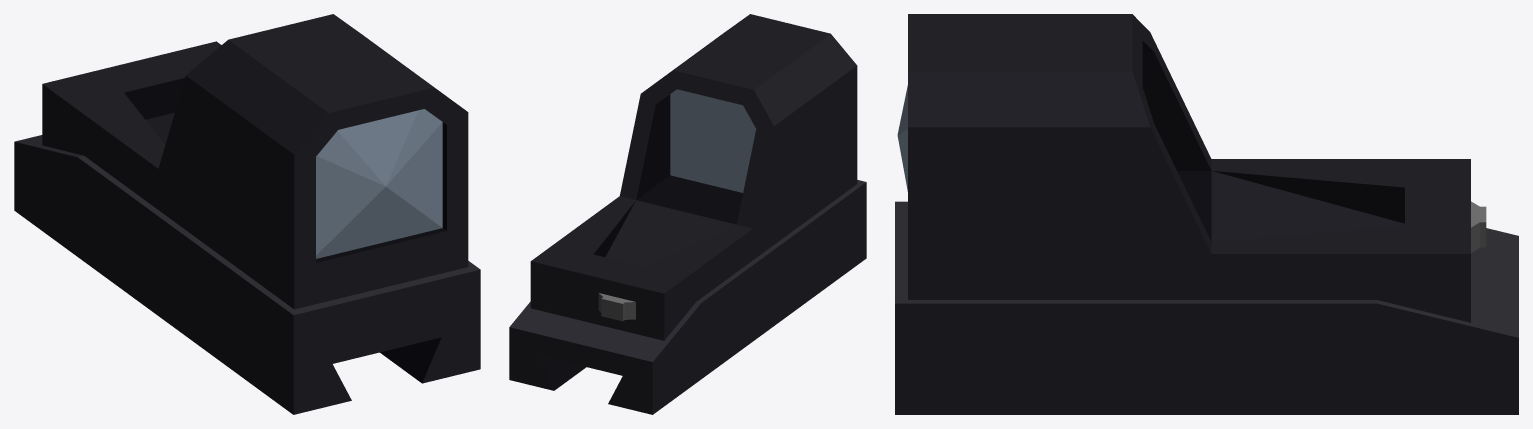
The model's file is MW1_Optic_Rear_Rail_01.fbx.
The picture shows the model from 3 angles, left to right: view 1: azimuth 30°, elevation 25°; view 2: azimuth 150°, elevation 25°; view 3: azimuth 270°, elevation 25°; orthographic projection. The views are drawn at different scales.
Visible parts, largest first — view 1: Optic_Rear_Rail_01, Optic_Rear_Rail_01_Lens; view 2: Optic_Rear_Rail_01, Optic_Rear_Rail_01_Lens; view 3: Optic_Rear_Rail_01, Optic_Rear_Rail_01_Lens.
Part boxes in pixels (x1,y1,x2,y2): Optic_Rear_Rail_01: (14,14,480,414); Optic_Rear_Rail_01_Lens: (316,109,442,258); Optic_Rear_Rail_01: (509,14,866,414); Optic_Rear_Rail_01_Lens: (670,89,756,192); Optic_Rear_Rail_01: (895,14,1518,414); Optic_Rear_Rail_01_Lens: (897,85,907,191).
Bounding box in the file's own units: 2.36 × 3.47 × 6.11.
